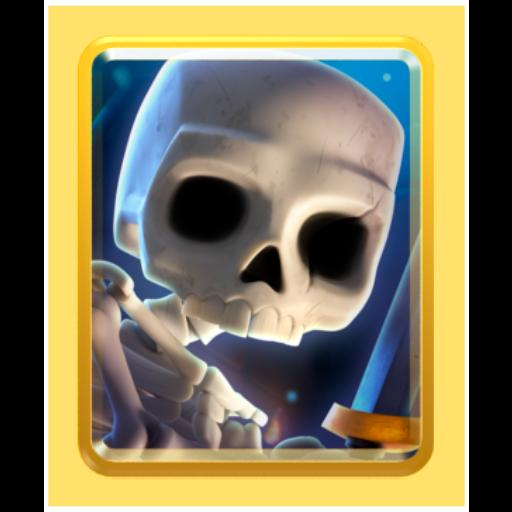skeletons: (91, 64, 415, 452)
